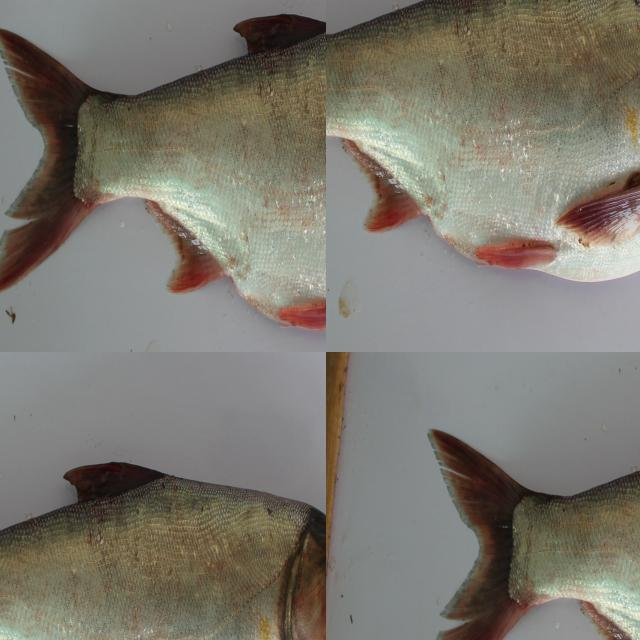fish: (326, 0, 640, 261), (418, 389, 640, 640), (0, 488, 326, 640)
